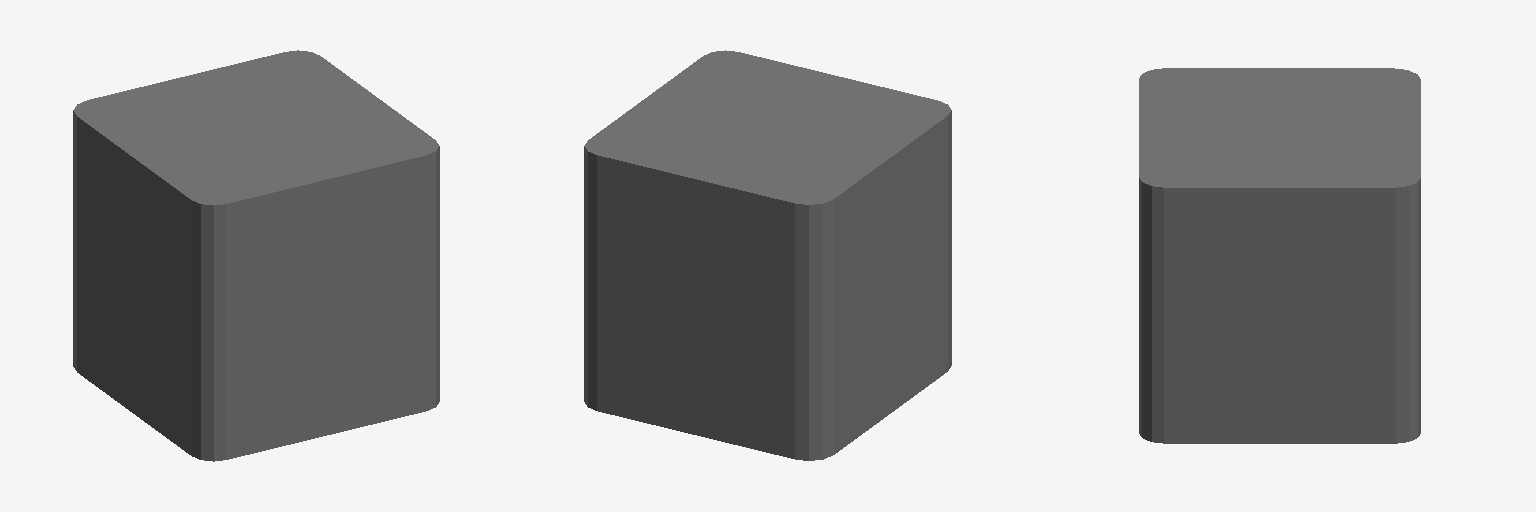
The model's file is block4.obj.
The picture shows the model from 3 angles: view 1: azimuth 30°, elevation 25°; view 2: azimuth 150°, elevation 25°; view 3: azimuth 270°, elevation 25°; orthographic projection.
Parts seen in each view (by area): view 1: pCube1; view 2: pCube1; view 3: pCube1.
Part boxes in pixels (left/top/right/bottom): pCube1: left=73, top=50, right=439, bottom=461; pCube1: left=584, top=50, right=951, bottom=460; pCube1: left=1139, top=68, right=1420, bottom=443.
Bounding box in the file's own units: 1 × 1 × 1.